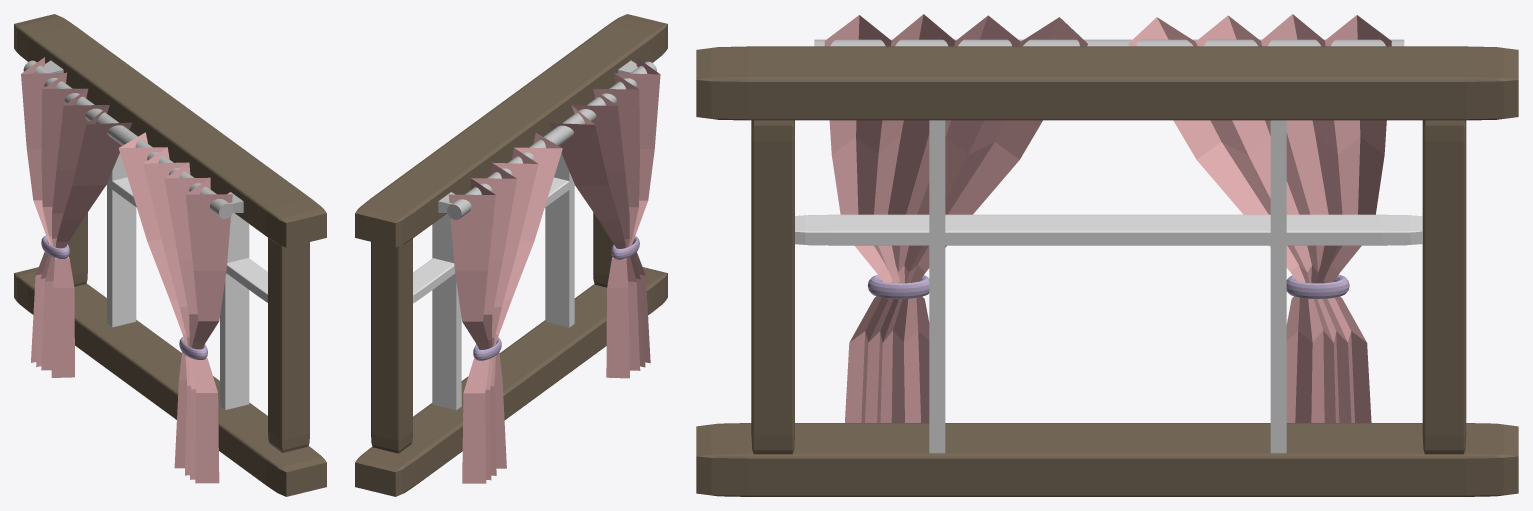
The model's file is WindowBigPink.fbx.
3 views of the same model, side by side, from view 1: azimuth 30°, elevation 25°; view 2: azimuth 150°, elevation 25°; view 3: azimuth 270°, elevation 25° (orthographic). The views are drawn at different scales.
Visible parts, largest first — view 1: Plane, Cube.007, Cube.008, Cube.010, Cube.012, Cube.013, Cylinder, Cube.011, Cube.009, Torus.001; view 2: Plane, Cube.007, Cube.008, Cube.009, Cube.013, Cube.012, Cylinder, Cube.011, Cube.010, Torus, Torus.001; view 3: Plane, Cube.007, Cube.008, Cube.011, Cube.009, Cube.010, Cube.012, Cube.013, Cylinder, Torus.001, Torus.
Part boxes in pixels (bbox=[...]): Plane: bbox=[21, 57, 232, 483]; Cube.007: bbox=[14, 14, 326, 247]; Cube.008: bbox=[14, 267, 326, 496]; Cube.010: bbox=[268, 238, 309, 452]; Cube.012: bbox=[220, 213, 249, 409]; Cube.013: bbox=[107, 153, 136, 327]; Cylinder: bbox=[23, 60, 233, 218]; Cube.011: bbox=[106, 177, 267, 302]; Cube.009: bbox=[68, 212, 87, 286]; Torus.001: bbox=[41, 235, 69, 258]; Plane: bbox=[448, 57, 660, 483]; Cube.007: bbox=[355, 14, 667, 247]; Cube.008: bbox=[355, 267, 667, 496]; Cube.009: bbox=[371, 238, 412, 453]; Cube.013: bbox=[432, 213, 461, 410]; Cube.012: bbox=[545, 153, 574, 327]; Cylinder: bbox=[447, 61, 656, 219]; Cube.011: bbox=[413, 177, 574, 303]; Cube.010: bbox=[593, 212, 613, 287]; Torus: bbox=[611, 236, 639, 259]; Torus.001: bbox=[473, 337, 501, 360]; Plane: bbox=[824, 14, 1391, 422]; Cube.007: bbox=[696, 46, 1518, 120]; Cube.008: bbox=[696, 423, 1518, 496]; Cube.011: bbox=[795, 214, 1422, 245]; Cube.009: bbox=[1422, 120, 1466, 454]; Cube.010: bbox=[751, 120, 794, 454]; Cube.012: bbox=[929, 120, 945, 453]; Cube.013: bbox=[1270, 120, 1286, 453]; Cylinder: bbox=[814, 39, 1404, 46]; Torus.001: bbox=[1286, 274, 1349, 299]; Torus: bbox=[867, 275, 929, 299].
Size of the model in its own units: 266 by 819 by 1379.
